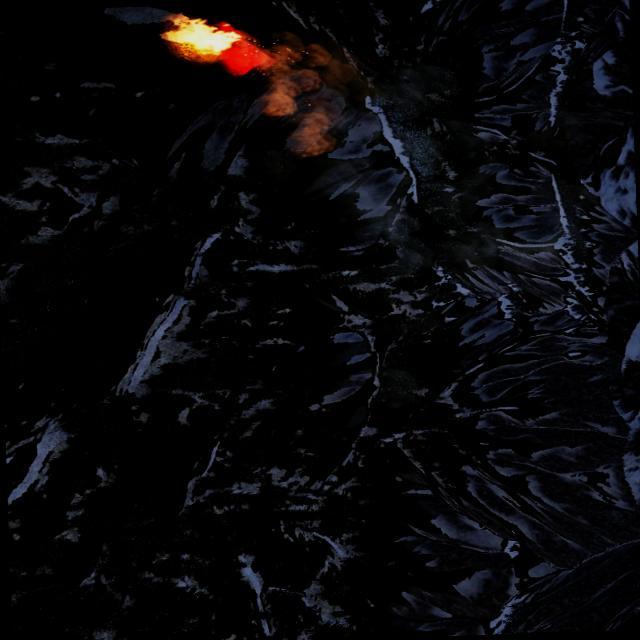fire: (162, 12, 244, 61)
smoke: (222, 32, 462, 162)
